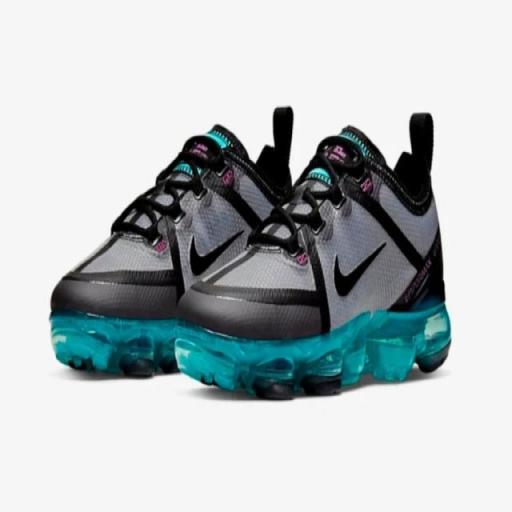Nike: (332, 239, 390, 301)
